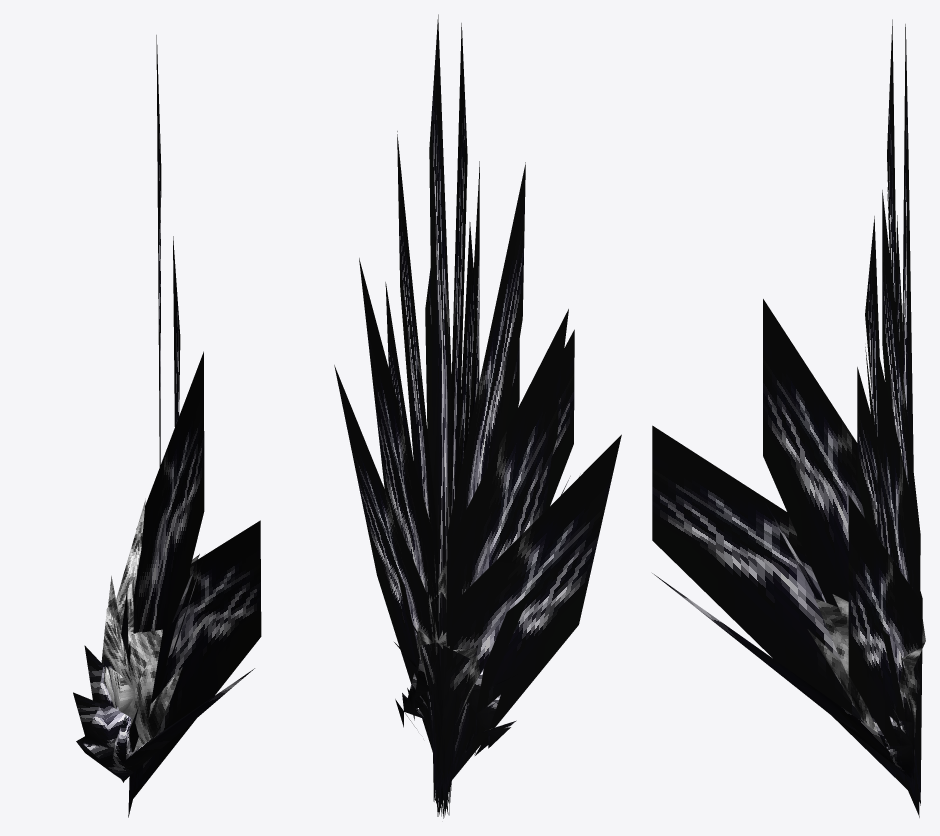
File: hendlight01.glb
3 views of the same model, side by side, from view 1: azimuth 30°, elevation 25°; view 2: azimuth 150°, elevation 25°; view 3: azimuth 270°, elevation 25° (orthographic).
Parts seen in each view (by area): view 1: model_hendlight01; view 2: model_hendlight01; view 3: model_hendlight01.
Part boxes in pixels (x1=…): model_hendlight01: x1=73, y1=35, x2=261, y2=817; model_hendlight01: x1=334, y1=14, x2=621, y2=818; model_hendlight01: x1=652, y1=19, x2=925, y2=817.
Size of the model in its own units: 2 by 5.31 by 1.66.
Materials: 2 (2 with a texture image).
